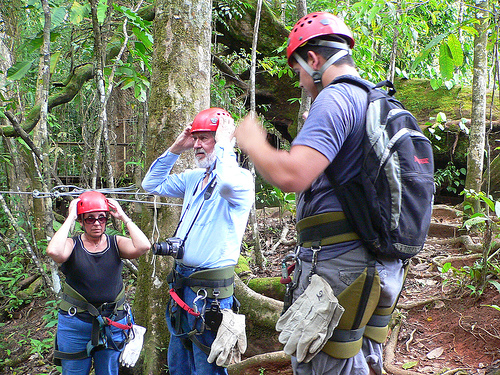helmet: (282, 17, 359, 50), (189, 108, 235, 140), (75, 192, 112, 216)
